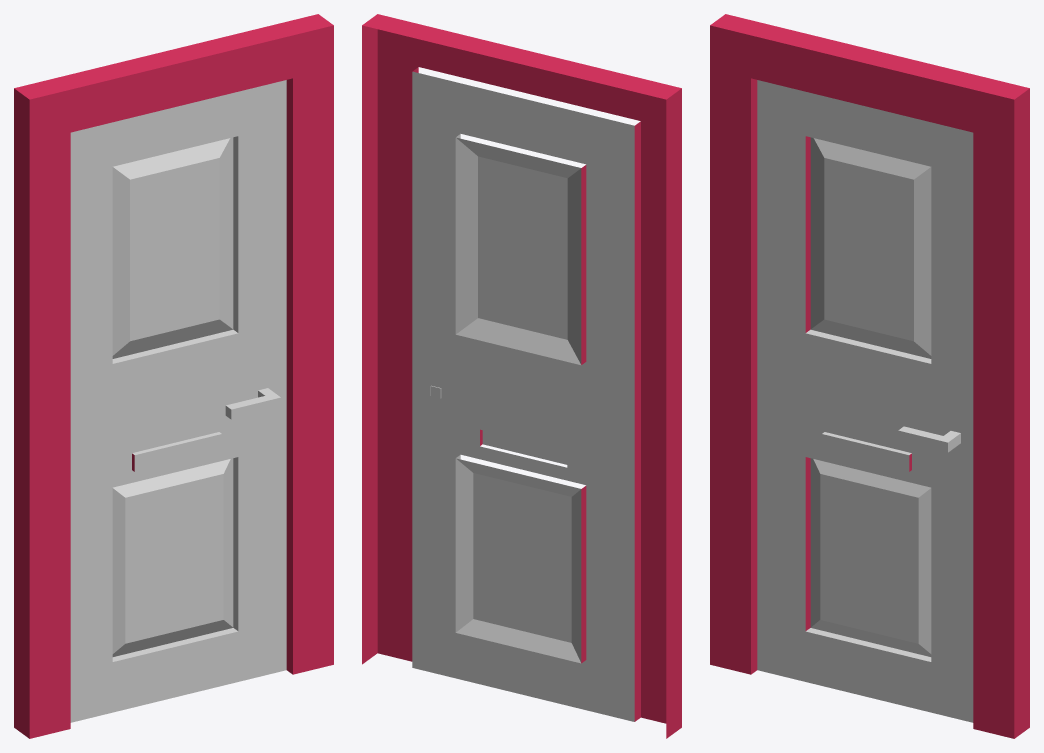
The model's file is propsMaison_porteEntre.fbx.
The picture shows the model from 3 angles, left to right: view 1: azimuth 30°, elevation 25°; view 2: azimuth 150°, elevation 25°; view 3: azimuth 330°, elevation 25°; orthographic projection.
Parts seen in each view (by area): view 1: Cube.013, Cube.006; view 2: Cube.013, Cube.006; view 3: Cube.013, Cube.006.
Boxes of the visible parts, x1,y1,x2,y2 form: Cube.013: [70, 80, 286, 722]; Cube.006: [14, 14, 333, 738]; Cube.013: [412, 71, 634, 721]; Cube.006: [362, 14, 681, 738]; Cube.013: [757, 80, 973, 722]; Cube.006: [710, 14, 1029, 738].
Size of the model in its own units: 467 by 938 by 59.4.
